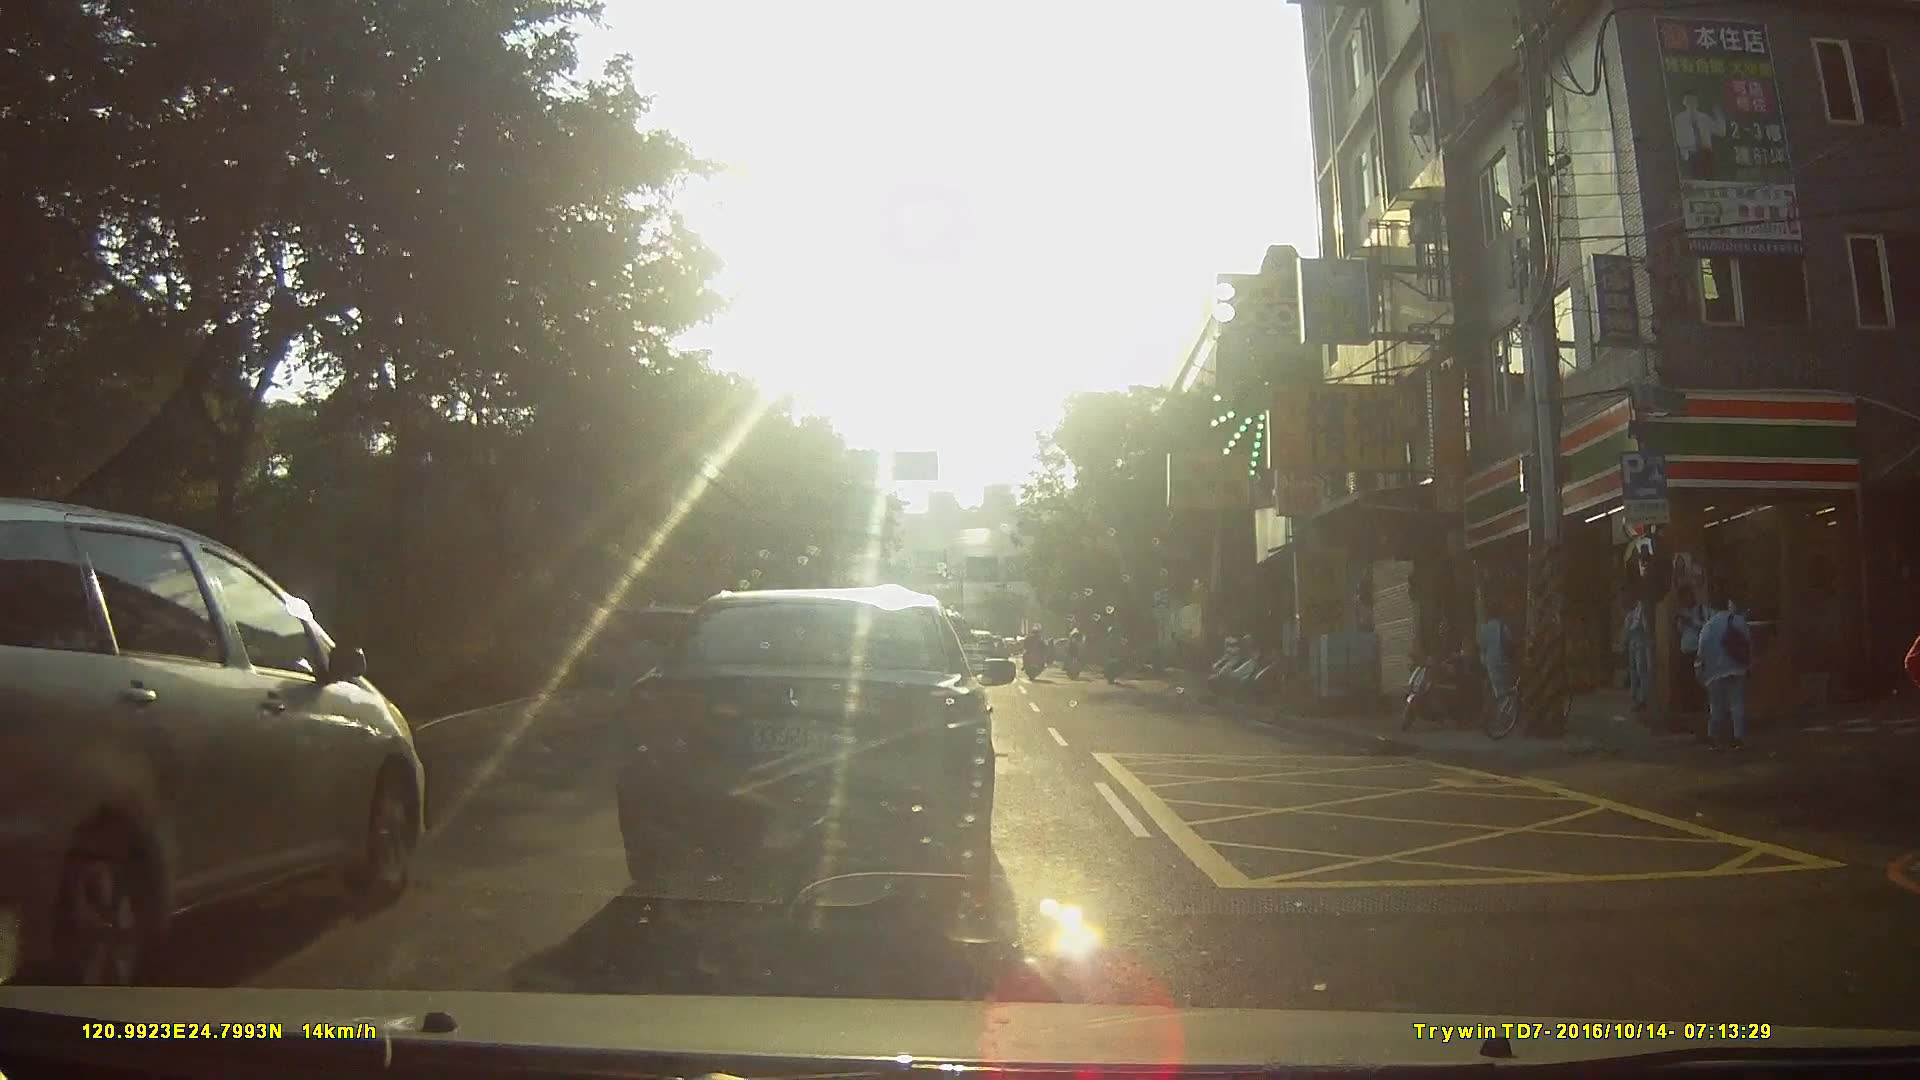pedestrian: (1698, 586, 1759, 752), (1473, 603, 1527, 717), (1680, 572, 1716, 711), (1618, 583, 1655, 708)
rider: (1062, 623, 1091, 684), (1101, 623, 1127, 689), (1022, 625, 1052, 681)
vehicle: (1, 508, 471, 975), (586, 576, 1032, 910)
